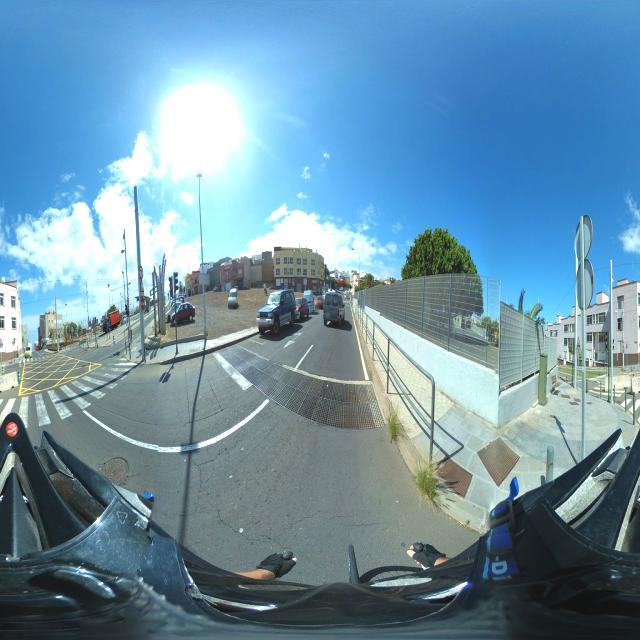car: (257, 289, 295, 336), (323, 290, 345, 328), (168, 300, 196, 326), (294, 292, 310, 322), (303, 290, 315, 315), (313, 290, 324, 310), (227, 292, 239, 310)
